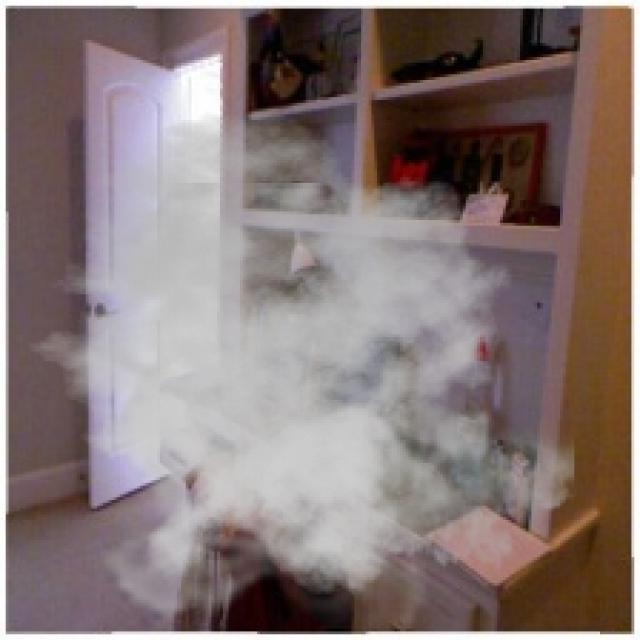Smoke: (6, 111, 574, 628)
